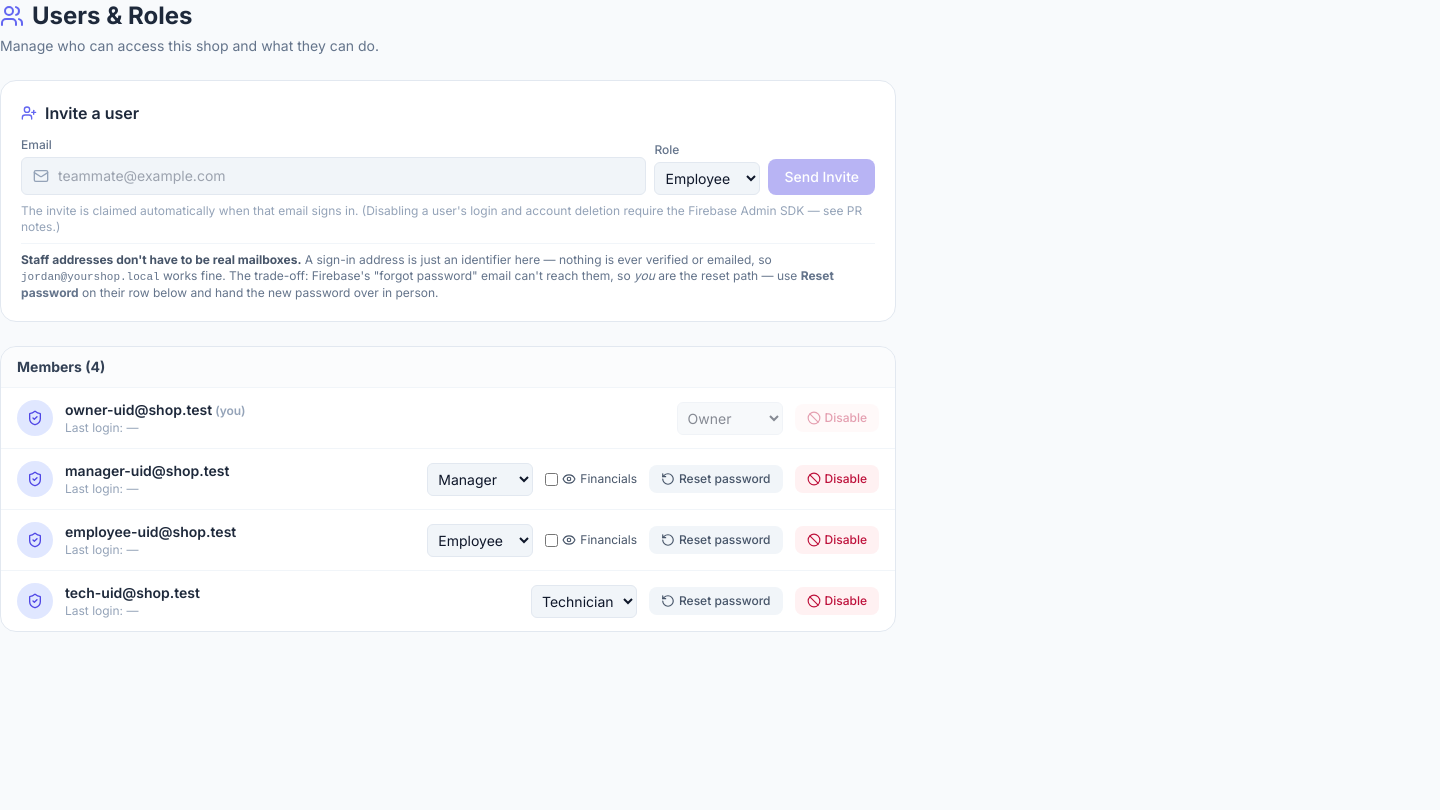
Test case: the reset dialog › keeps submit disabled until the password is strong enough AND confirmed
Click the button "Reset password" in the row of "manager-uid@shop.test" at [716, 479], box x1=649 y1=465 x2=783 y2=493
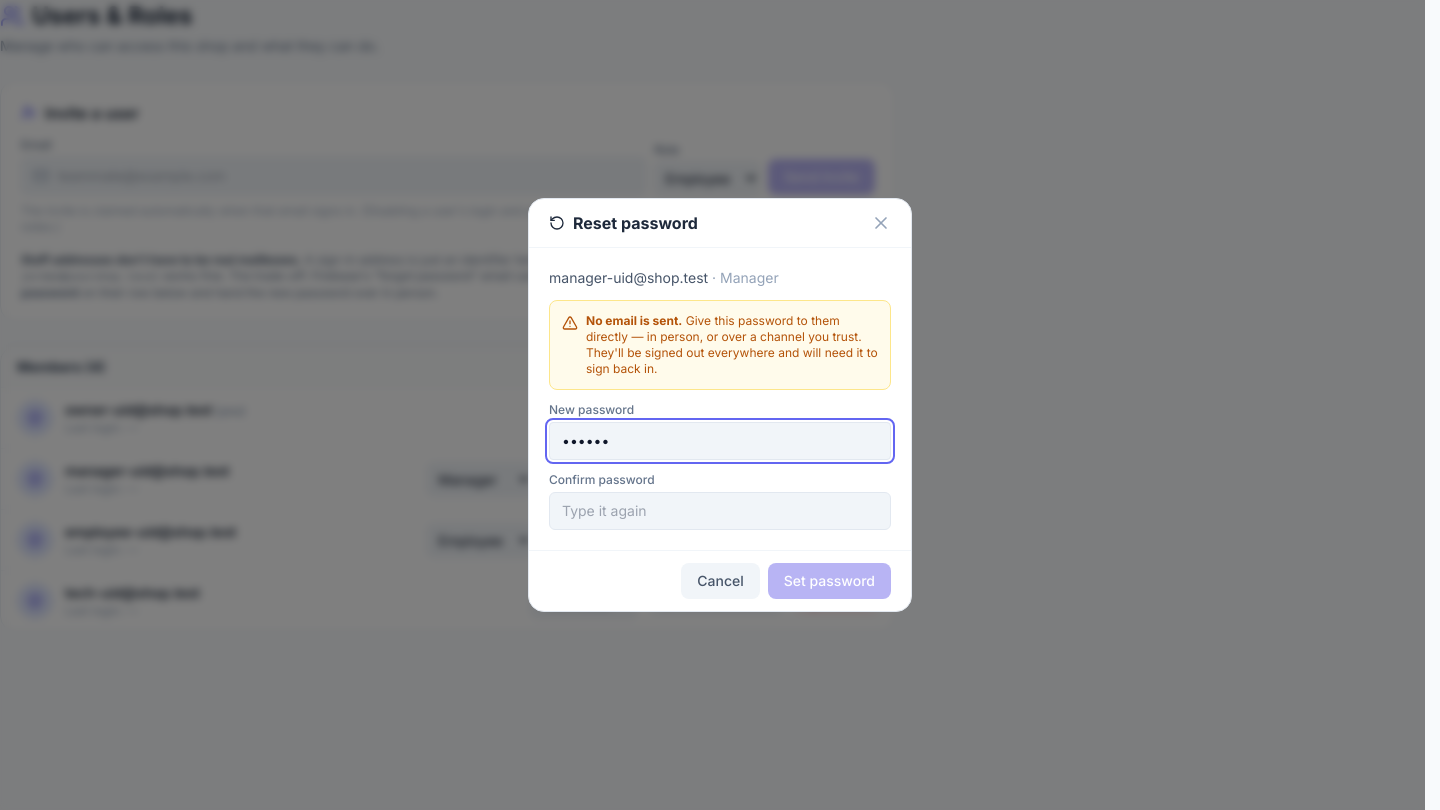
Check: the button "Set password" is disabled, box x1=768 y1=563 x2=891 y2=599
Type "short1" into the password field with id "new-staff-password" at [720, 441], box x1=549 y1=422 x2=891 y2=460
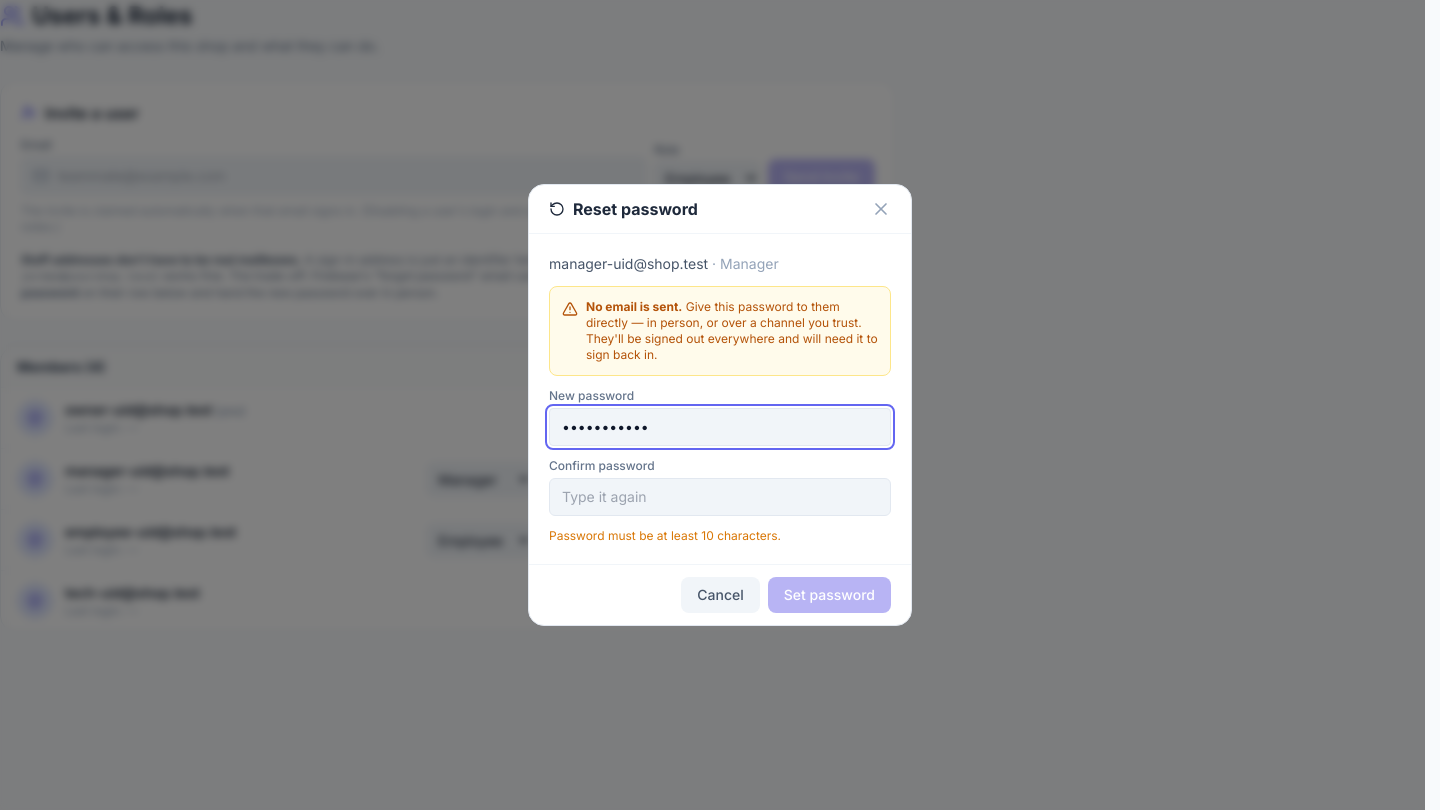
Check: the button "Set password" is disabled, box x1=768 y1=577 x2=891 y2=613
Type "shopfloor42" into the password field with id "new-staff-password" at [720, 427], box x1=549 y1=408 x2=891 y2=446
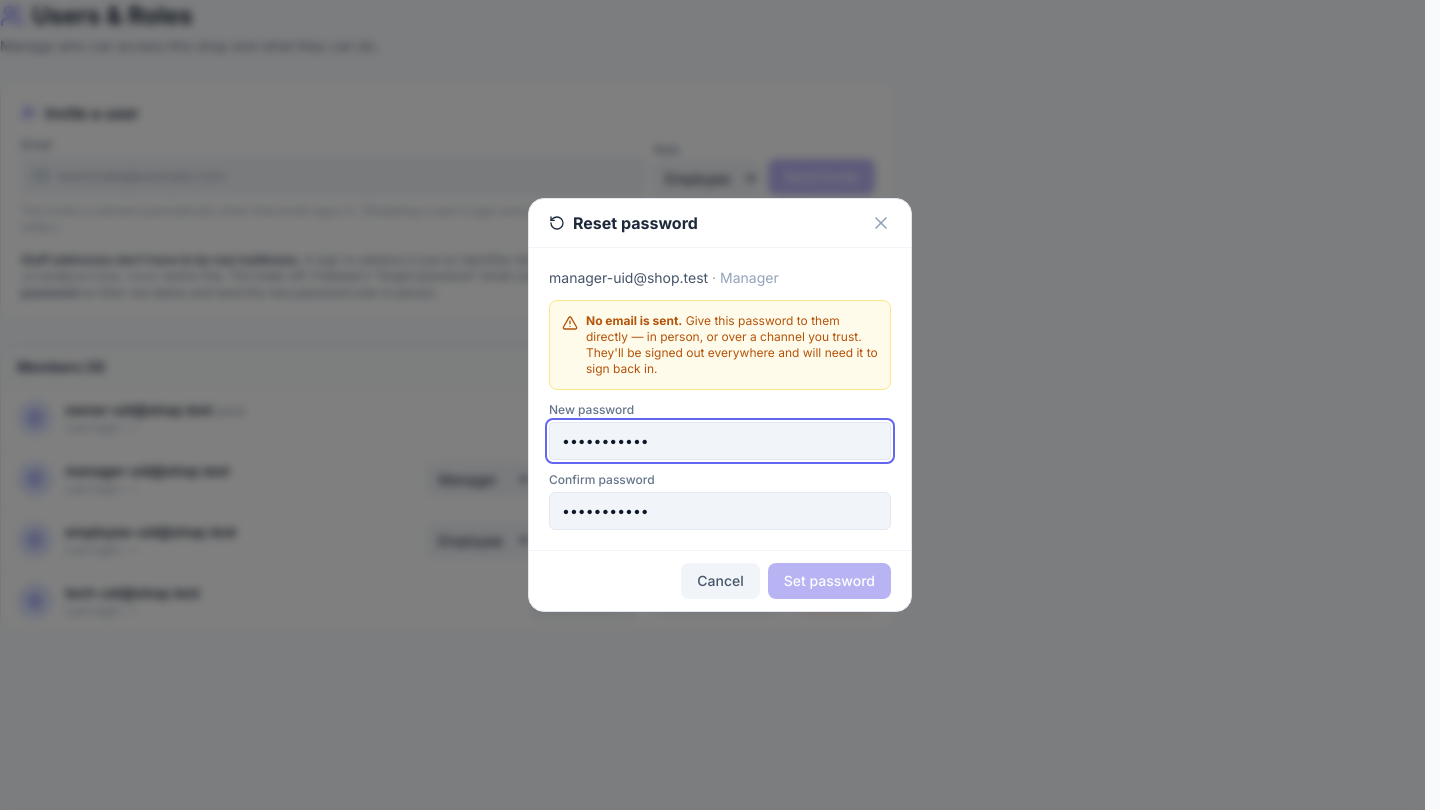
Check: the button "Set password" is disabled, box x1=768 y1=563 x2=891 y2=599
Type "shopfloor4X" into the password field with id "confirm-staff-password" at [720, 511], box x1=549 y1=492 x2=891 y2=530
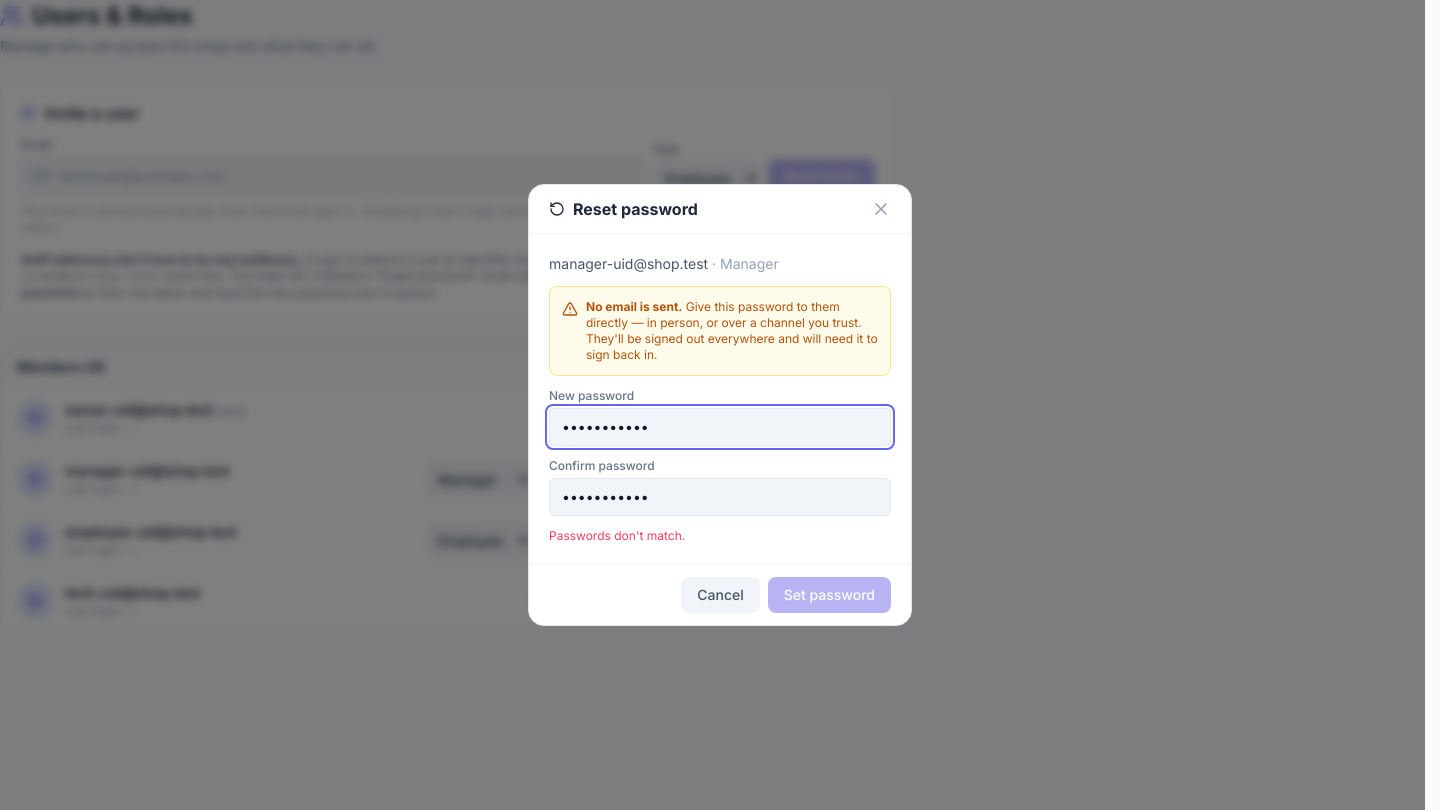
Check: the button "Set password" is disabled, box x1=768 y1=577 x2=891 y2=613
Check: the text "Passwords don't match." is shown, box x1=549 y1=528 x2=685 y2=543
Type "shopfloor42" into the password field with id "confirm-staff-password" at [720, 497], box x1=549 y1=478 x2=891 y2=516
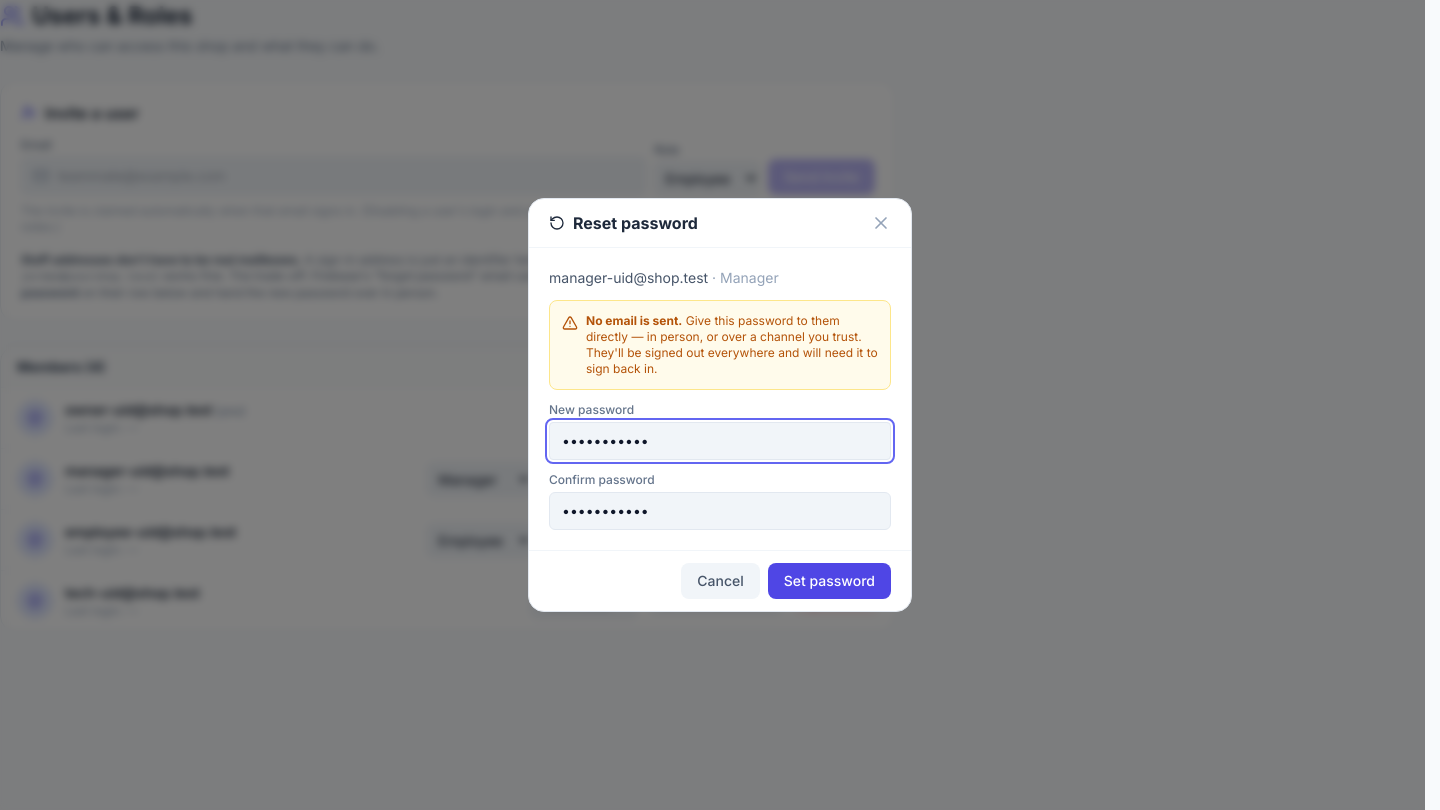
Check: the button "Set password" is enabled, box x1=768 y1=563 x2=891 y2=599
